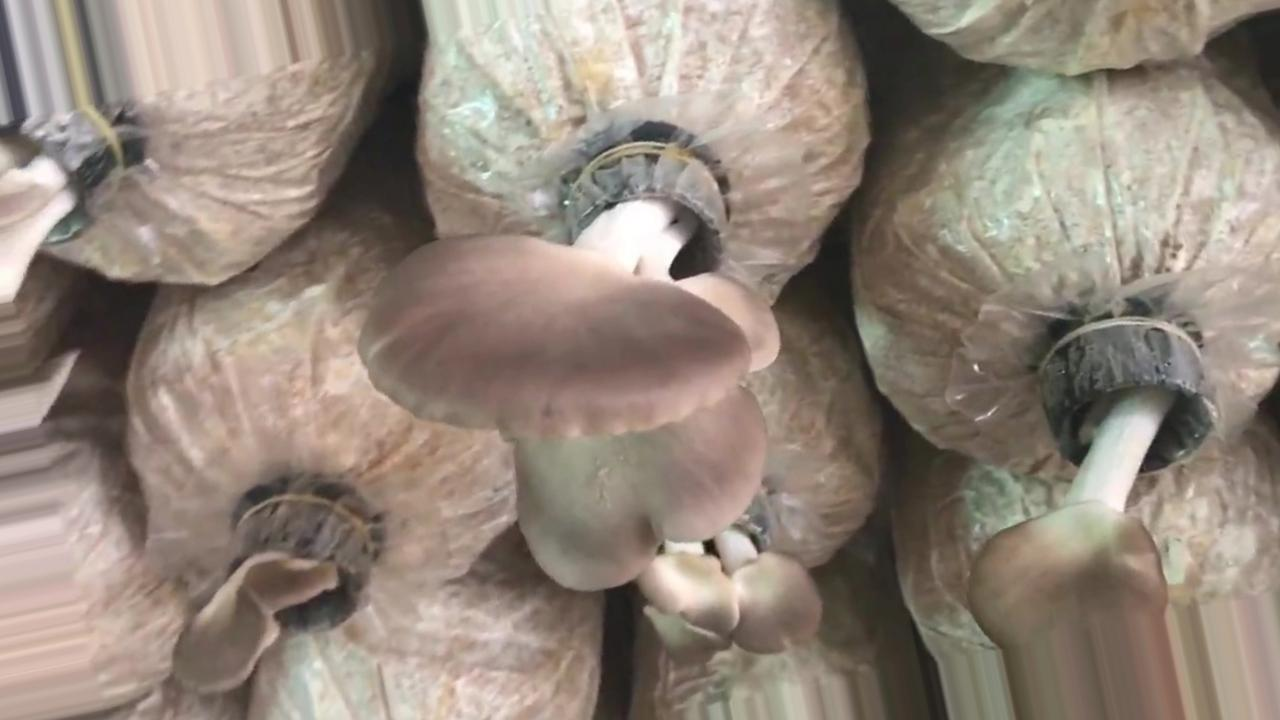nam: (364, 142, 780, 588), (970, 324, 1214, 719), (174, 495, 374, 690), (641, 497, 820, 665)
